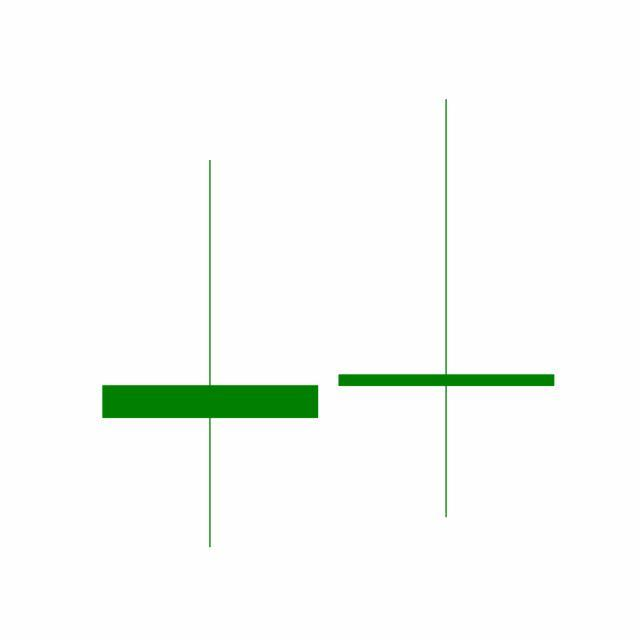Spinning Top: (328, 95, 566, 523)
